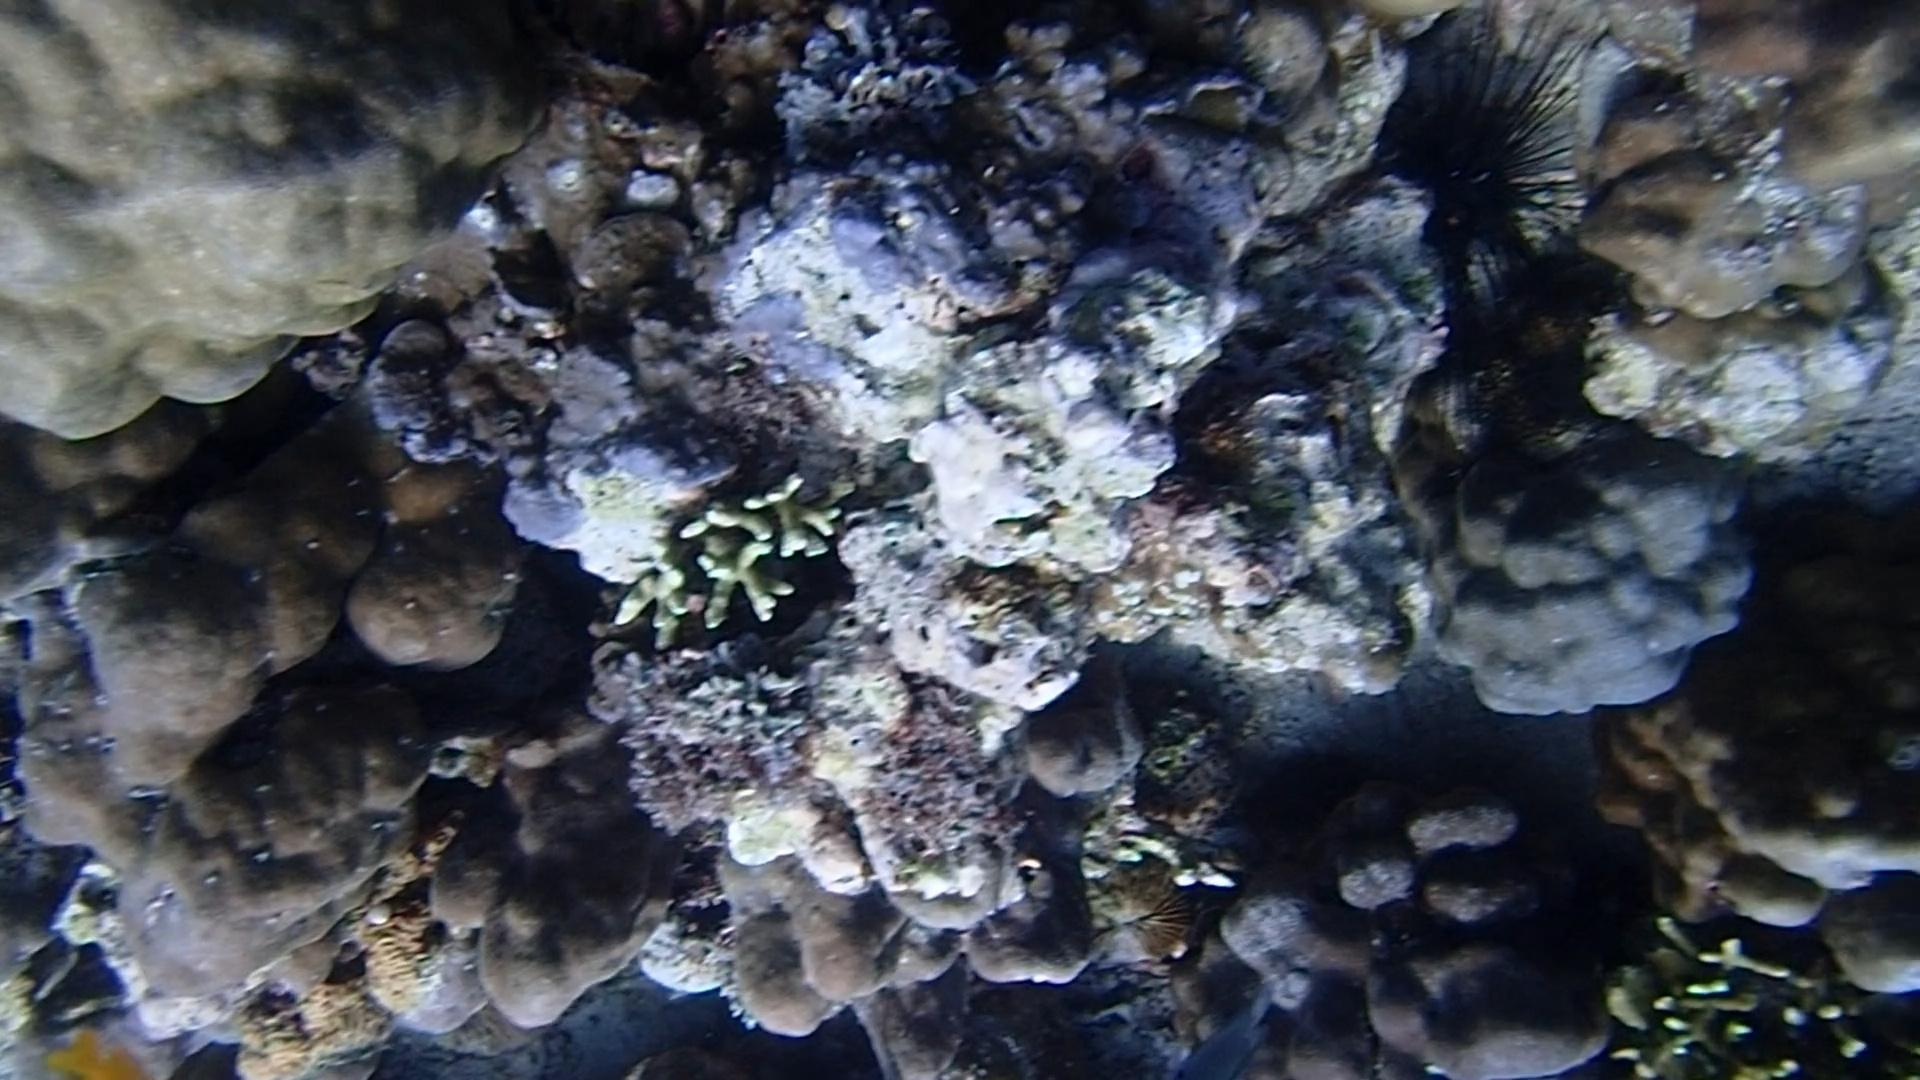Yellow Fish: (41, 1017, 166, 1080)
